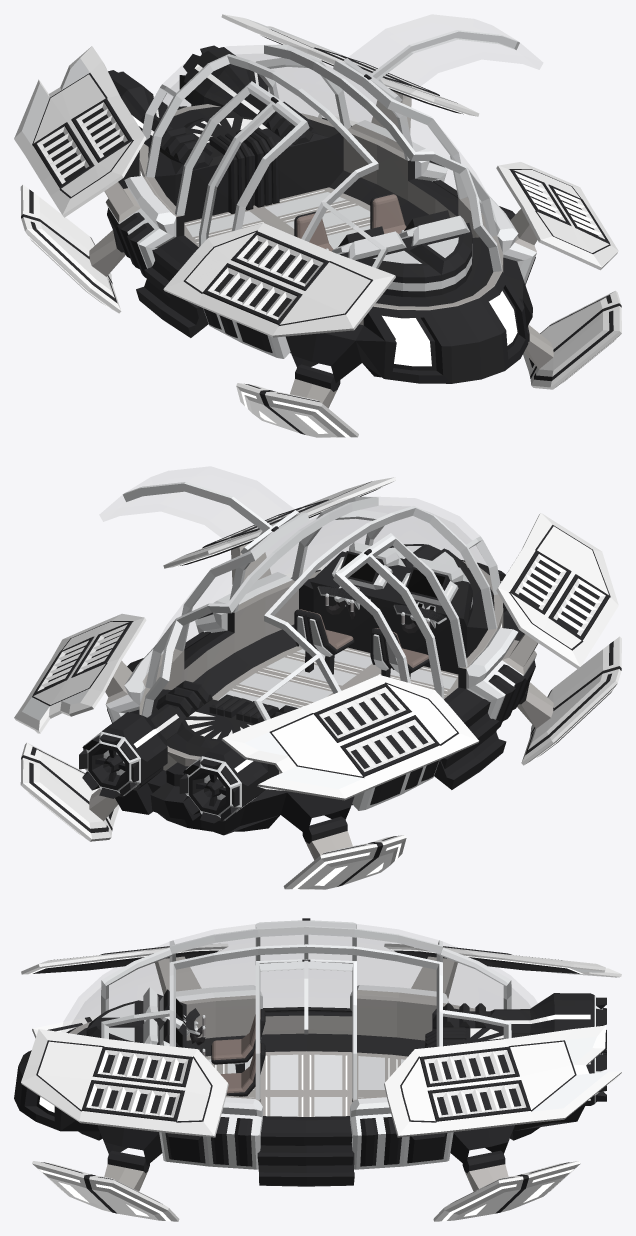
File: civtrans.glb
The picture shows the model from 3 angles, top to bottom: view 1: azimuth 30°, elevation 25°; view 2: azimuth 150°, elevation 25°; view 3: azimuth 270°, elevation 25°; orthographic projection. The views are drawn at different scales.
Visible parts, largest first — view 1: CAT-350_Body, CAT-350_Wing.U.F, CAT-350_Inside, CAT-350_Wing.U.B, CAT-350_GlassCanvas, CAT-350_Wing.D.F, CAT-350_Engines, CAT-350_Glass, CAT-350_Wing.D.B, CAT-350_Door.R, CAT-350_Door.L, CAT-350_Chair; view 2: CAT-350_Body, CAT-350_Wing.U.B, CAT-350_GlassCanvas, CAT-350_Inside, CAT-350_Wing.U.F, CAT-350_Engines, CAT-350_Wing.D.B, CAT-350_Wing.D.F, CAT-350_Glass, CAT-350_Chair, CAT-350_Door.R, CAT-350_Door.L (+1 smaller); view 3: CAT-350_Body, CAT-350_Wing.U.B, CAT-350_Wing.U.F, CAT-350_Glass, CAT-350_GlassCanvas, CAT-350_Wing.D.F, CAT-350_Wing.D.B, CAT-350_Engines, CAT-350_Inside, CAT-350_Chair, CAT-350_Door.L, CAT-350_Control.
Boxes of the visible parts, <box> form: CAT-350_Body: <box>105,104,536,383</box>; CAT-350_Wing.U.F: <box>163,162,618,337</box>; CAT-350_Inside: <box>148,107,493,306</box>; CAT-350_Wing.U.B: <box>14,14,479,217</box>; CAT-350_GlassCanvas: <box>142,44,502,271</box>; CAT-350_Wing.D.F: <box>236,290,621,437</box>; CAT-350_Engines: <box>108,45,313,169</box>; CAT-350_Glass: <box>159,54,486,228</box>; CAT-350_Wing.D.B: <box>20,113,357,313</box>; CAT-350_Door.R: <box>199,84,300,247</box>; CAT-350_Door.L: <box>344,30,519,101</box>; CAT-350_Chair: <box>294,193,406,251</box>; CAT-350_Body: <box>105,560,536,835</box>; CAT-350_Wing.U.B: <box>14,613,479,800</box>; CAT-350_GlassCanvas: <box>141,496,500,720</box>; CAT-350_Inside: <box>151,542,494,756</box>; CAT-350_Wing.U.F: <box>163,477,618,669</box>; CAT-350_Engines: <box>79,680,298,823</box>; CAT-350_Wing.D.B: <box>20,742,406,889</box>; CAT-350_Wing.D.F: <box>284,565,621,765</box>; CAT-350_Glass: <box>156,505,492,680</box>; CAT-350_Chair: <box>294,609,429,678</box>; CAT-350_Door.R: <box>341,535,443,699</box>; CAT-350_Door.L: <box>122,482,298,553</box>; CAT-350_Body: <box>14,985,584,1186</box>; CAT-350_Wing.U.B: <box>384,943,621,1137</box>; CAT-350_Wing.U.F: <box>21,943,228,1137</box>; CAT-350_Glass: <box>69,938,533,1033</box>; CAT-350_GlassCanvas: <box>101,918,511,1099</box>; CAT-350_Wing.D.F: <box>32,1015,179,1221</box>; CAT-350_Wing.D.B: <box>433,1150,580,1221</box>; CAT-350_Engines: <box>433,993,606,1105</box>; CAT-350_Inside: <box>77,987,532,1047</box>; CAT-350_Chair: <box>211,1009,265,1096</box>; CAT-350_Door.L: <box>259,960,353,1034</box>; CAT-350_Control: <box>183,1008,205,1056</box>.
Bounding box in the file's own units: 549 × 338 × 759.
Materials: 2 (1 with a texture image).
